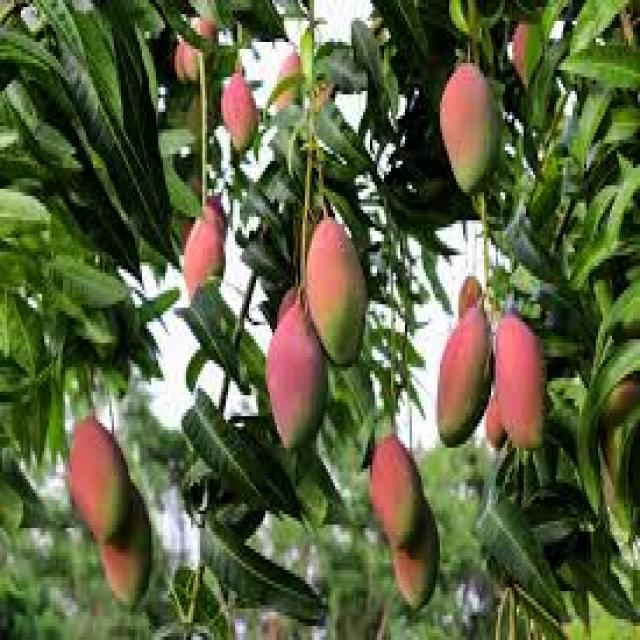mango: (300, 213, 370, 371)
